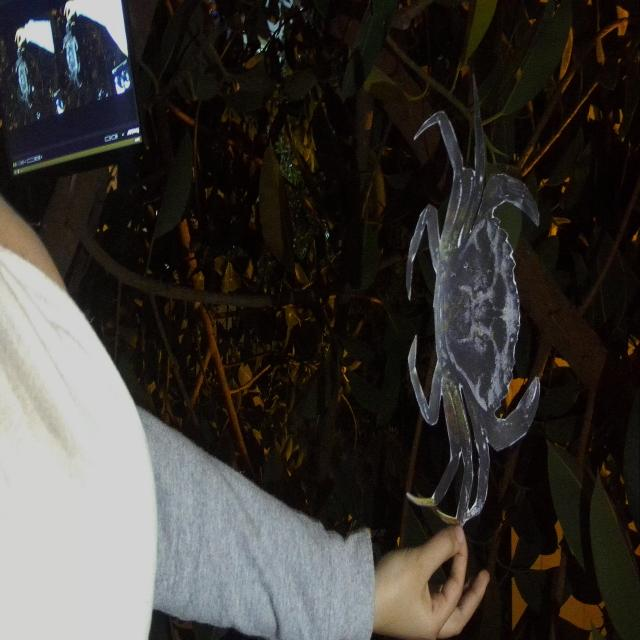European_Green_Crab: (407, 114, 540, 525)
